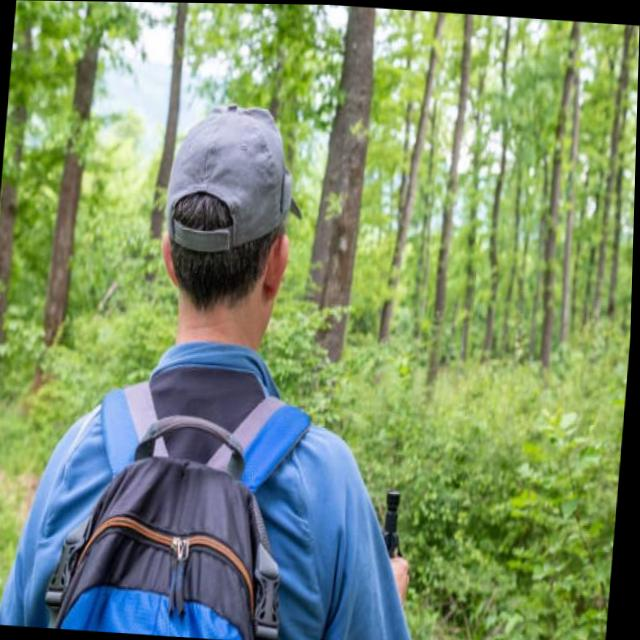no helmet: (136, 77, 330, 382)
